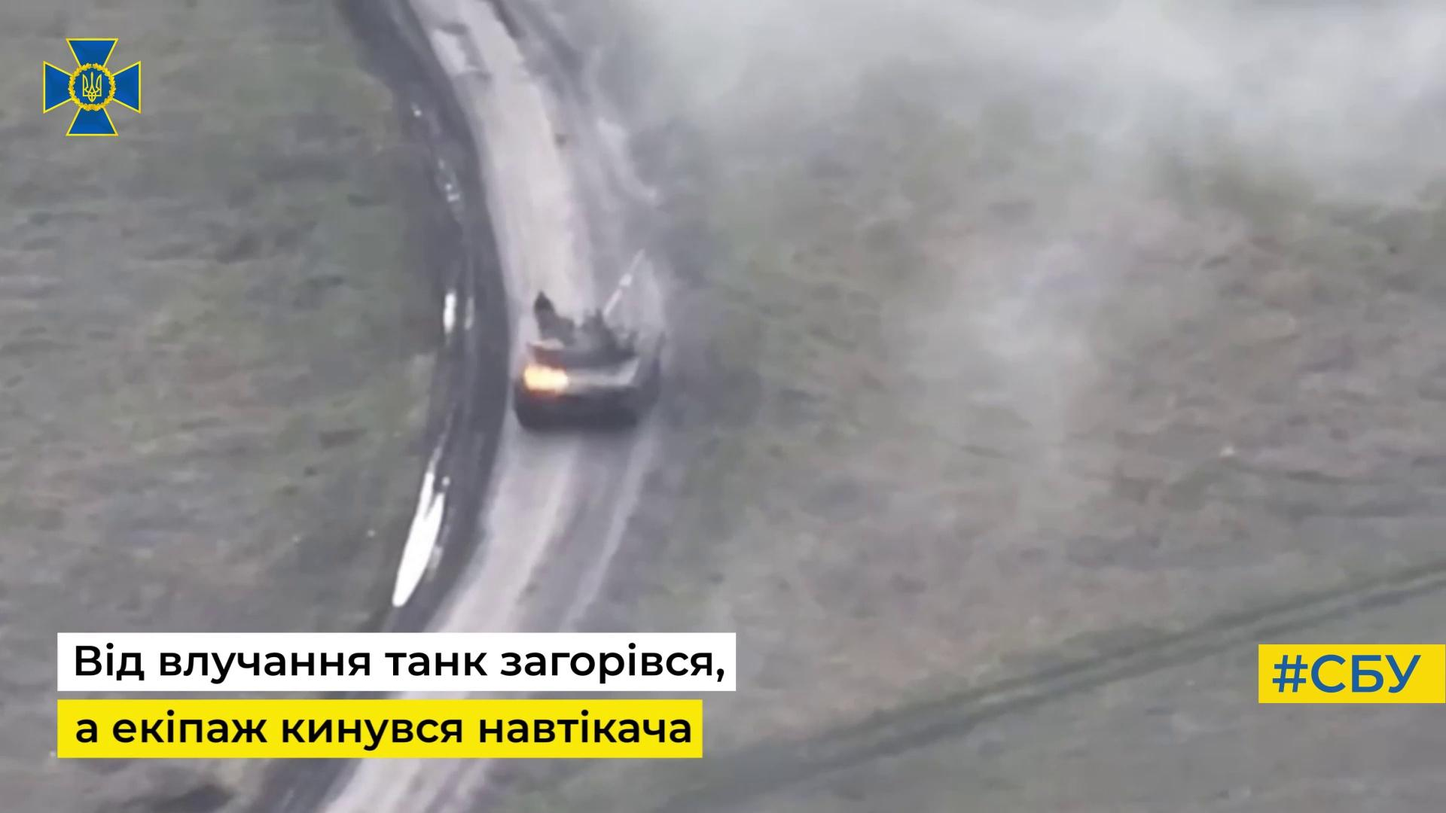vehicle: (513, 251, 654, 432)
